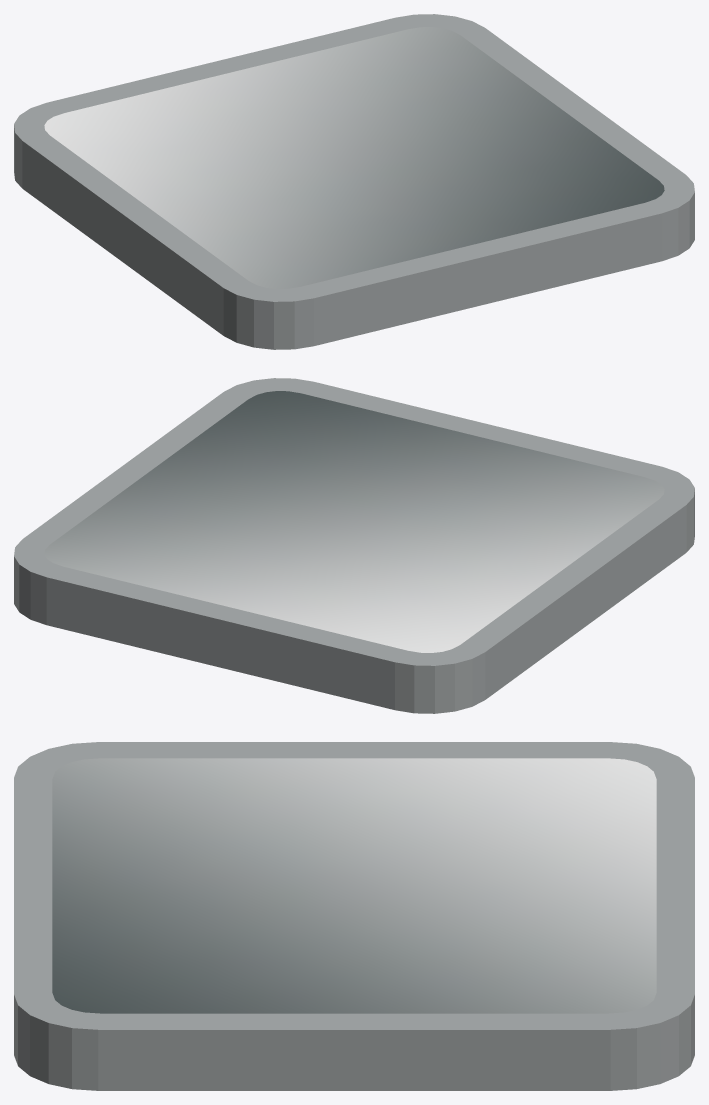
File: CarTile 1.fbx
The picture shows the model from 3 angles, top to bottom: view 1: azimuth 30°, elevation 25°; view 2: azimuth 150°, elevation 25°; view 3: azimuth 270°, elevation 25°; orthographic projection. The views are drawn at different scales.
Parts seen in each view (by area): view 1: Cube; view 2: Cube; view 3: Cube.
Boxes of the visible parts, <box> form: Cube: <box>14,14,694,349</box>; Cube: <box>14,378,694,713</box>; Cube: <box>14,742,694,1090</box>.
Size of the model in its own units: 1 by 0.099 by 1.
1 material, 1 textured.
